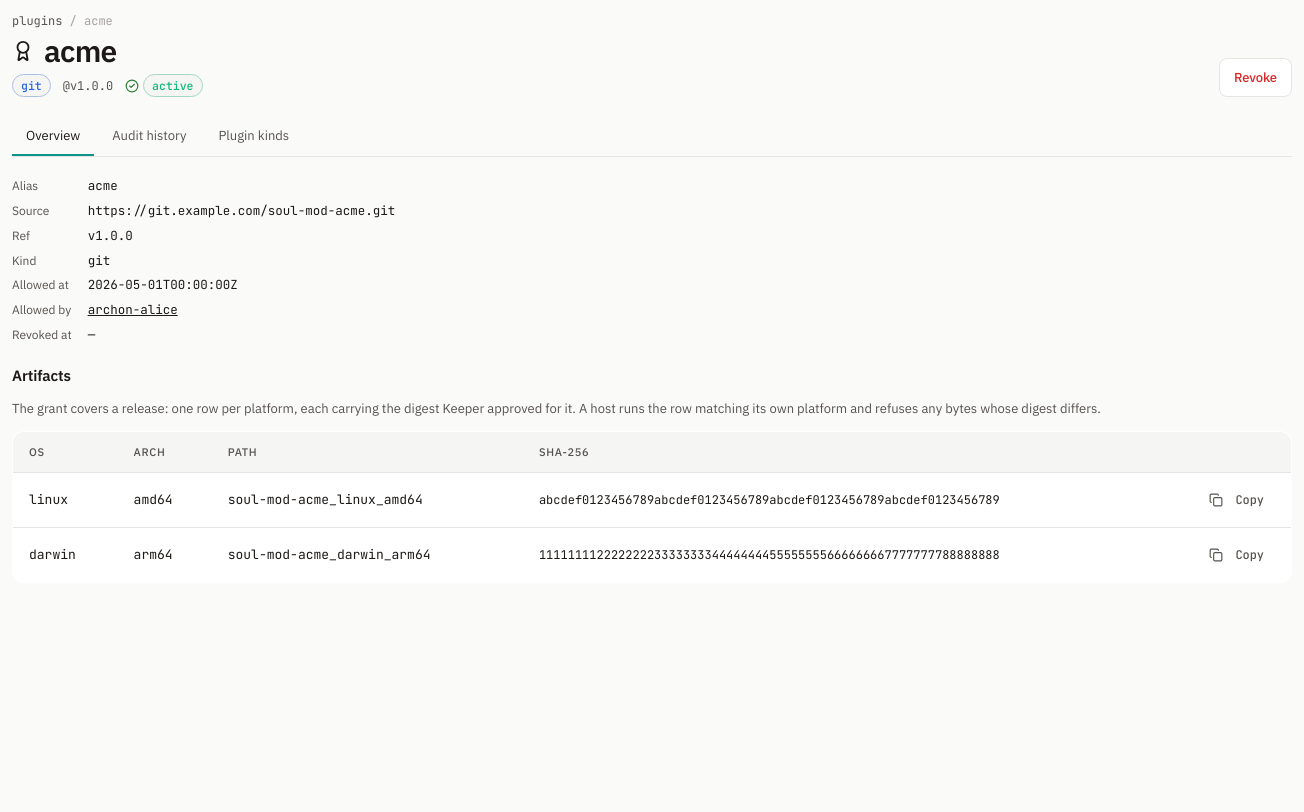
Scenario: PluginDetail › Audit tab filters events by alias from payload
Expected: the heading "acme" is shown, x1=12 y1=31 x2=116 y2=70
Click the tab "Audit history": (149, 137) x1=98 y1=117 x2=200 y2=156
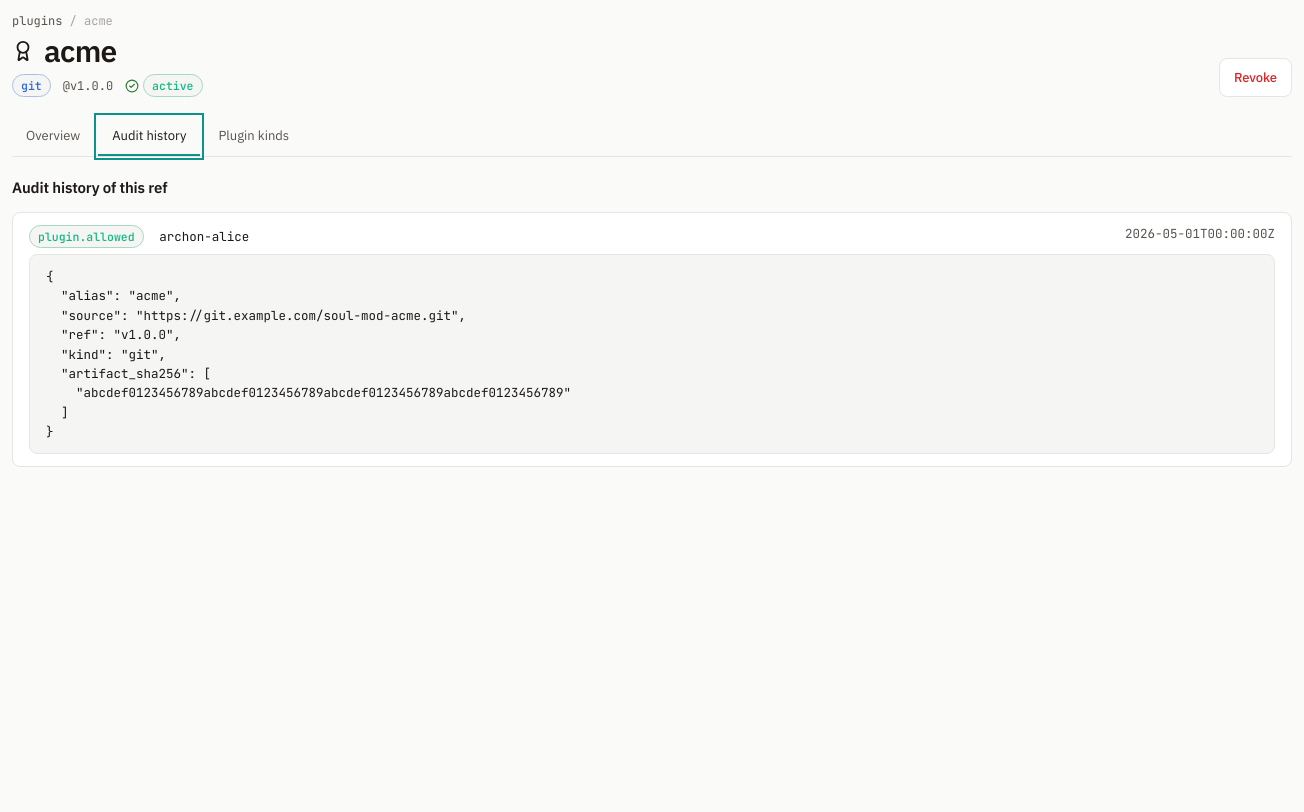
Expected: the text "plugin.allowed" is shown, x1=29 y1=225 x2=144 y2=248
